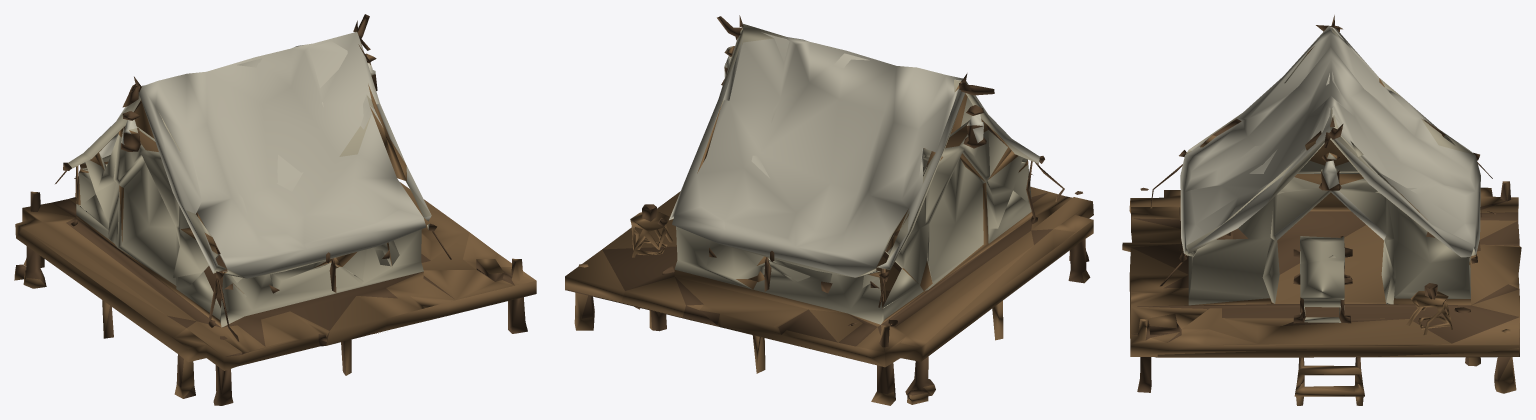
The model's file is survey_tent_a_lod1_tripo.glb.
The picture shows the model from 3 angles, left to right: view 1: azimuth 30°, elevation 25°; view 2: azimuth 150°, elevation 25°; view 3: azimuth 270°, elevation 25°; orthographic projection. The views are drawn at different scales.
Parts seen in each view (by area): view 1: Surface.001; view 2: Surface.001; view 3: Surface.001.
Part boxes in pixels (box(x1,y1,x2,y2)): Surface.001: box(14, 14, 536, 405); Surface.001: box(565, 15, 1093, 405); Surface.001: box(1122, 15, 1521, 405).
Size of the model in its own units: 6.09 by 4.12 by 6.08.
